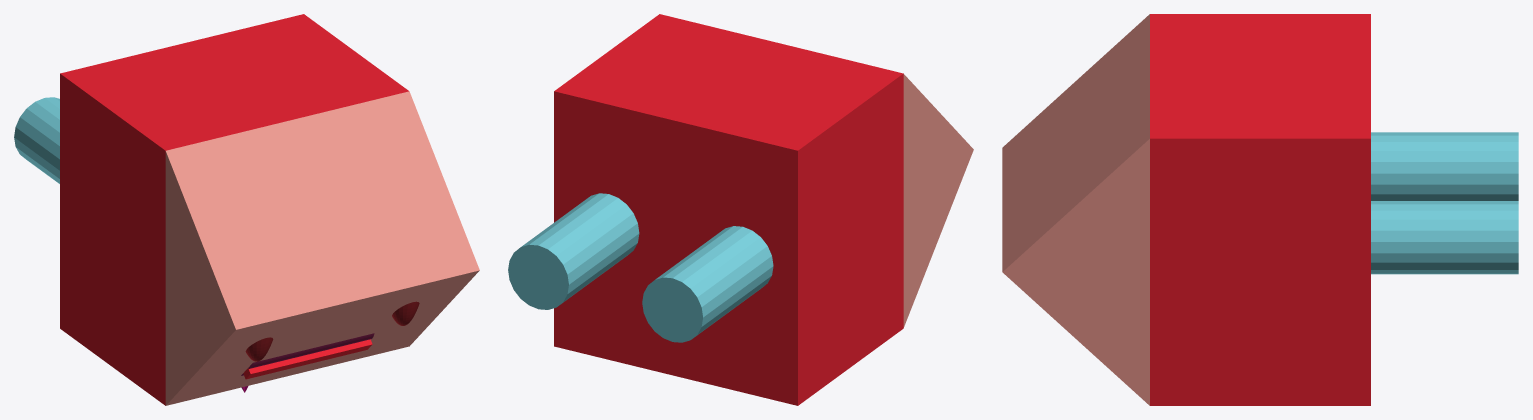
Rendered from tinker.obj.
3 renders of one model, left to right at view 1: azimuth 30°, elevation 25°; view 2: azimuth 150°, elevation 25°; view 3: azimuth 270°, elevation 25°, orthographic. The views are drawn at different scales.
Visible parts, largest first — view 1: group_0_15308428, group_0_15277357, group_0_7720667, group_0_9771553, group_0_9444435; view 2: group_0_15277357, group_0_7720667, group_0_15308428; view 3: group_0_15277357, group_0_15308428, group_0_7720667.
Part boxes in pixels (x1,y1,x2,y2): group_0_15308428: (165,91,479,405); group_0_15277357: (60,14,408,405); group_0_7720667: (14,97,59,183); group_0_9771553: (245,301,419,361); group_0_9444435: (241,333,374,375); group_0_15277357: (554,14,903,405); group_0_7720667: (508,193,773,342); group_0_15308428: (903,74,973,327); group_0_15277357: (1150,14,1370,405); group_0_15308428: (1002,14,1149,405); group_0_7720667: (1371,132,1518,274).
Bounding box in the file's own units: 20 × 24 × 35.
